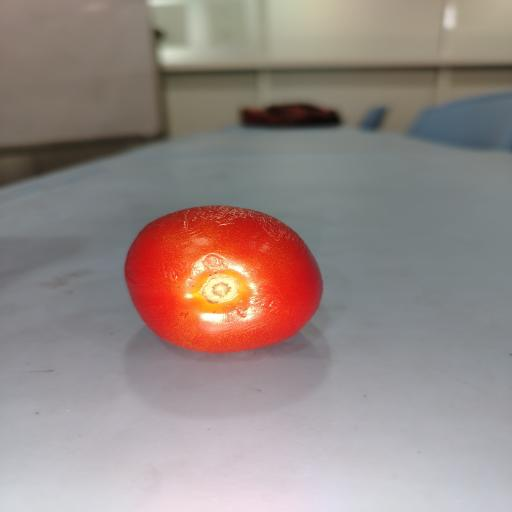spoiled: (125, 206, 322, 352)
